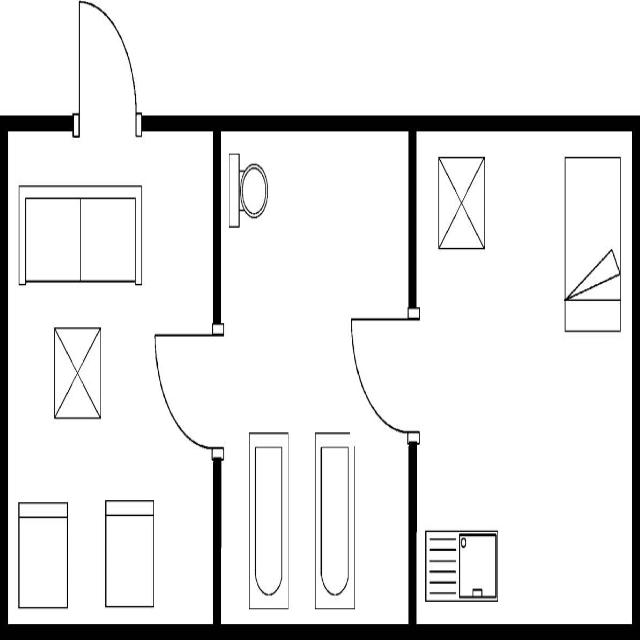bed: (559, 147, 625, 339)
coffee_table: (434, 147, 488, 259), (50, 321, 104, 424)
large_sink: (225, 145, 270, 233)
large_sofa: (15, 175, 146, 293)
sink: (422, 522, 501, 606)
small_sofa: (13, 494, 71, 612), (101, 490, 156, 612)
tub: (310, 424, 360, 616), (244, 425, 292, 616)
